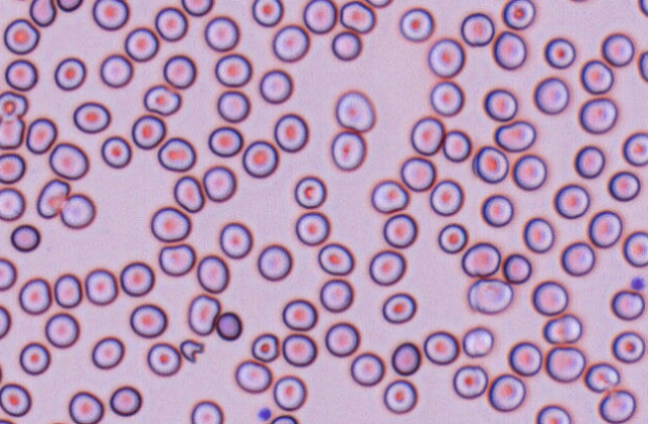PLT: (629, 275, 646, 291), (256, 405, 272, 421)
RBC: (334, 90, 375, 132), (467, 277, 513, 314), (48, 141, 89, 180), (427, 37, 465, 78), (487, 373, 526, 412), (545, 345, 585, 383), (578, 97, 618, 134), (150, 206, 191, 242), (330, 130, 366, 171), (271, 24, 309, 62), (241, 139, 278, 178), (461, 241, 501, 277), (368, 249, 406, 286), (157, 136, 196, 172), (533, 76, 569, 115), (273, 112, 308, 152), (187, 294, 220, 336), (472, 145, 508, 183), (588, 209, 623, 248), (492, 30, 526, 70), (60, 192, 96, 229), (3, 18, 40, 54), (531, 280, 568, 316), (553, 183, 590, 219), (598, 388, 636, 423), (129, 303, 167, 338), (257, 243, 292, 281), (410, 116, 444, 155), (44, 312, 80, 348), (512, 153, 547, 190), (202, 164, 236, 202), (84, 267, 118, 305), (370, 179, 408, 213), (214, 53, 252, 87), (196, 254, 229, 293), (72, 100, 111, 133), (452, 364, 488, 399), (507, 340, 542, 376), (124, 26, 159, 62), (324, 321, 359, 357), (423, 330, 459, 365), (204, 15, 239, 51), (258, 68, 293, 104), (119, 261, 154, 297), (429, 80, 464, 116), (399, 6, 434, 42), (272, 374, 306, 411), (234, 359, 271, 393), (429, 179, 463, 216), (18, 277, 51, 315), (219, 221, 252, 259), (542, 313, 582, 344), (382, 379, 417, 414), (400, 156, 435, 191), (131, 114, 166, 149), (382, 213, 417, 248), (560, 241, 595, 276), (579, 59, 614, 94), (281, 333, 317, 367), (294, 211, 330, 245), (158, 243, 195, 276), (317, 242, 354, 275), (25, 116, 57, 154), (146, 342, 181, 376), (350, 351, 384, 386), (154, 6, 188, 41), (162, 54, 196, 89), (99, 53, 133, 88), (483, 87, 518, 121), (460, 12, 495, 46), (68, 390, 104, 423), (281, 298, 317, 331), (339, 0, 375, 33), (522, 216, 554, 253), (143, 84, 181, 115), (91, 335, 125, 369), (319, 278, 353, 312), (302, 0, 336, 34), (601, 32, 635, 66), (53, 56, 86, 91), (207, 125, 243, 157), (173, 175, 204, 212), (4, 58, 38, 91), (611, 330, 645, 363), (480, 193, 513, 227), (216, 90, 250, 123), (610, 288, 645, 320), (381, 292, 416, 324), (92, 0, 129, 30), (293, 175, 326, 208), (18, 341, 50, 375), (0, 382, 31, 417), (543, 36, 575, 69), (390, 341, 421, 375), (607, 170, 641, 201), (574, 144, 605, 178), (109, 385, 142, 416), (100, 135, 131, 168), (501, 0, 535, 30), (53, 273, 82, 308), (461, 326, 493, 357), (331, 30, 362, 61), (442, 129, 471, 162), (437, 222, 467, 253), (622, 131, 648, 166), (502, 253, 532, 283), (623, 230, 647, 267), (0, 186, 25, 221), (250, 332, 279, 362), (10, 223, 40, 252), (251, 0, 283, 26), (0, 115, 24, 149), (215, 311, 242, 341), (0, 152, 25, 184), (190, 399, 223, 423), (0, 90, 28, 118), (28, 0, 56, 27), (535, 404, 571, 423), (0, 256, 17, 291), (180, 0, 213, 16), (0, 304, 11, 339), (55, 0, 84, 12), (638, 49, 647, 82), (270, 414, 298, 423), (364, 0, 394, 8), (639, 0, 648, 16), (564, 0, 594, 3), (43, 421, 70, 424), (0, 418, 15, 423), (9, 0, 34, 2)
Schistocyte: (37, 178, 71, 219), (495, 121, 537, 152), (585, 362, 622, 393), (179, 340, 206, 364)
